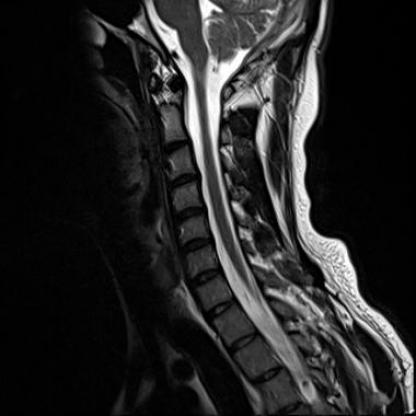Degenerative Disc Diseaserotation: (179, 236, 215, 253)
Disc Bulgerotation: (179, 236, 215, 253)
